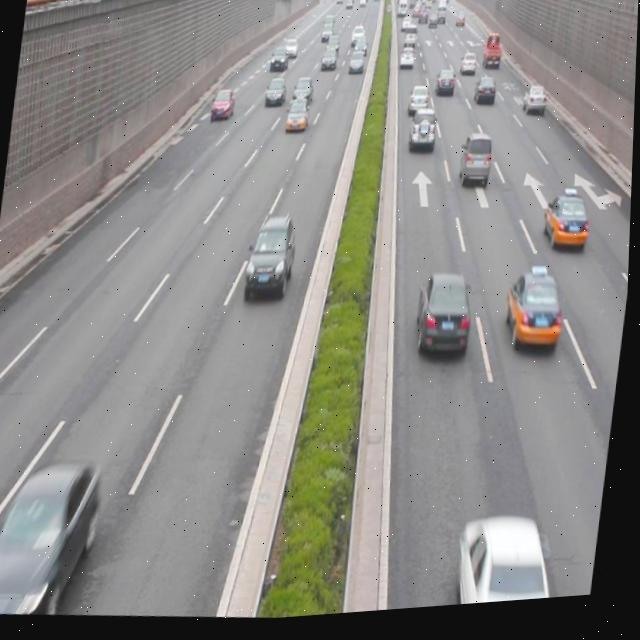car: (0, 458, 103, 604), (455, 518, 561, 612), (414, 277, 474, 368), (503, 275, 568, 359), (244, 217, 300, 307), (538, 193, 592, 263), (408, 111, 439, 160), (284, 99, 311, 139), (406, 87, 431, 126), (210, 90, 235, 125), (521, 90, 546, 123), (473, 81, 497, 114), (264, 80, 288, 112)
truck: (456, 136, 492, 194)
